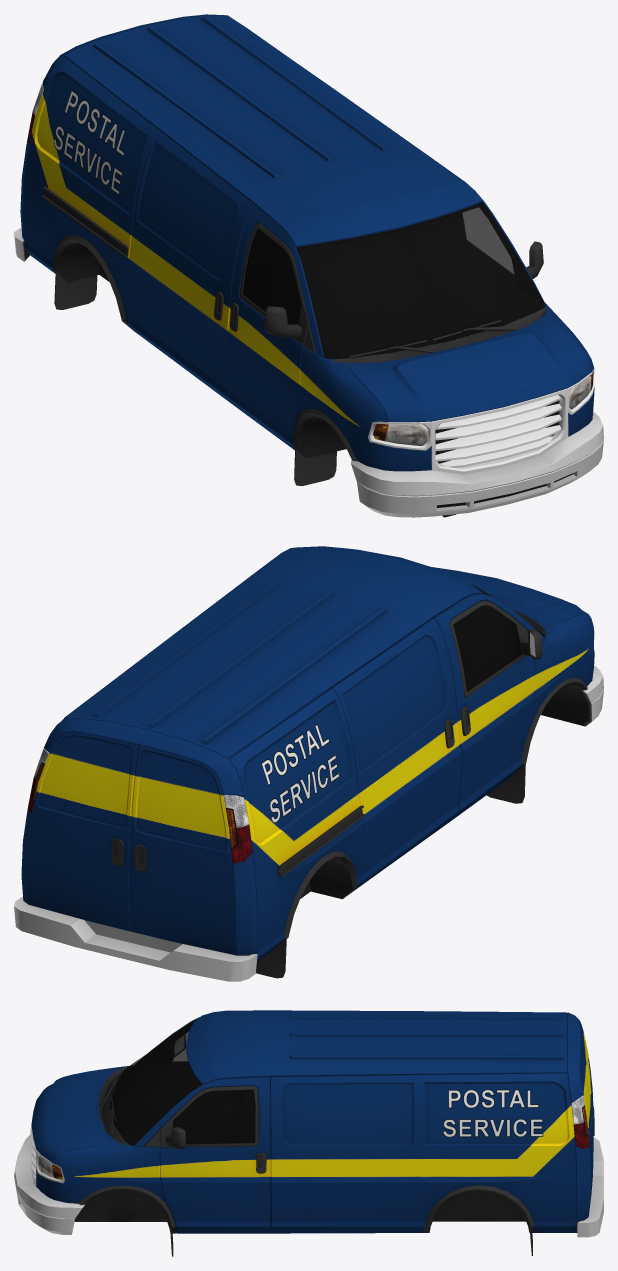
3 views of the same model, one above another, from view 1: azimuth 30°, elevation 25°; view 2: azimuth 150°, elevation 25°; view 3: azimuth 270°, elevation 25° (orthographic). The views are drawn at different scales.
Visible parts, largest first — view 1: postvan; view 2: postvan; view 3: postvan.
Boxes of the visible parts, box(x1,y1,x2,y2) form: postvan: box(14, 14, 603, 517); postvan: box(14, 546, 603, 981); postvan: box(14, 1010, 603, 1256).
Bounding box in the file's own units: 2.19 × 1.83 × 5.34.
4 materials, 4 textured.
